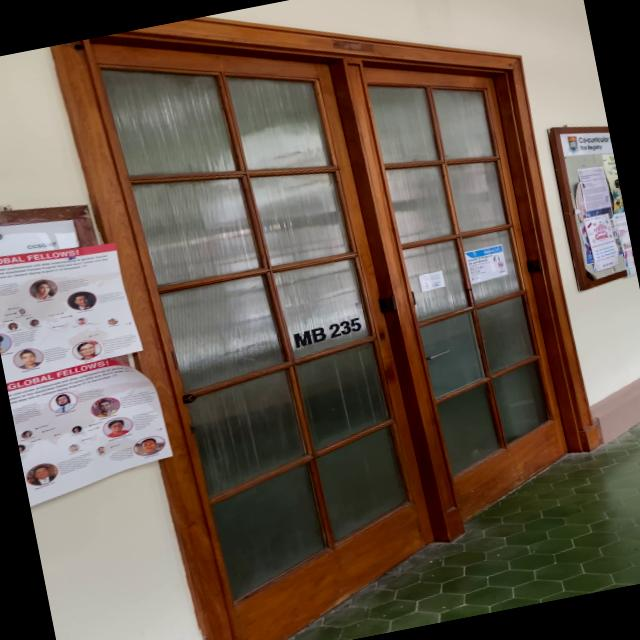room235Window: (287, 312, 371, 352)
